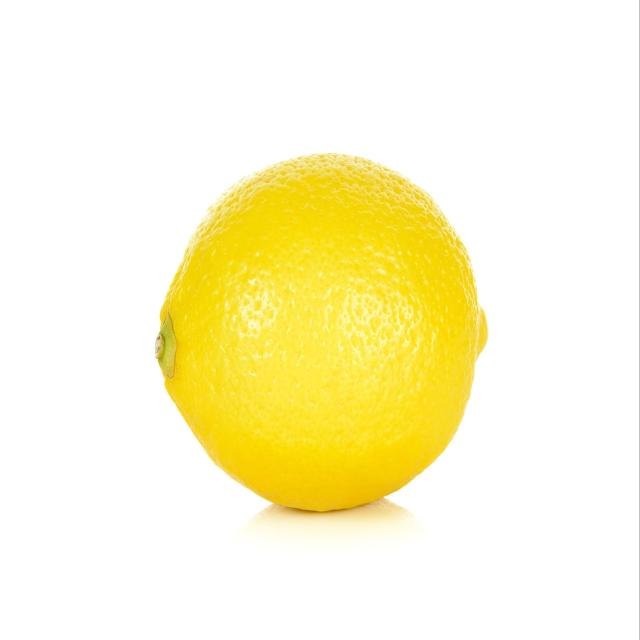lemon: (149, 147, 492, 519)
